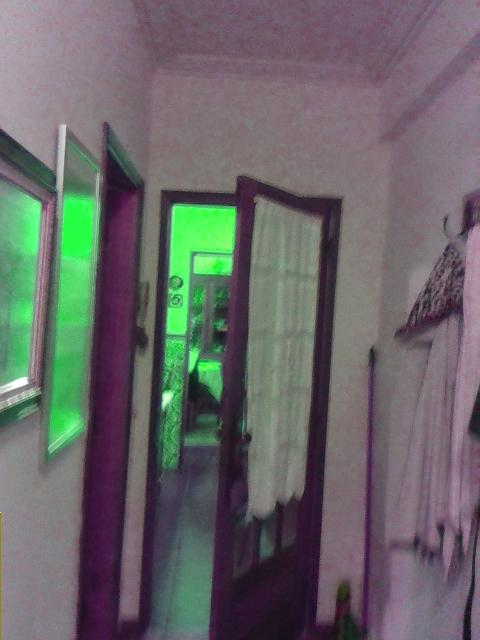semi_door: (137, 173, 340, 639)
